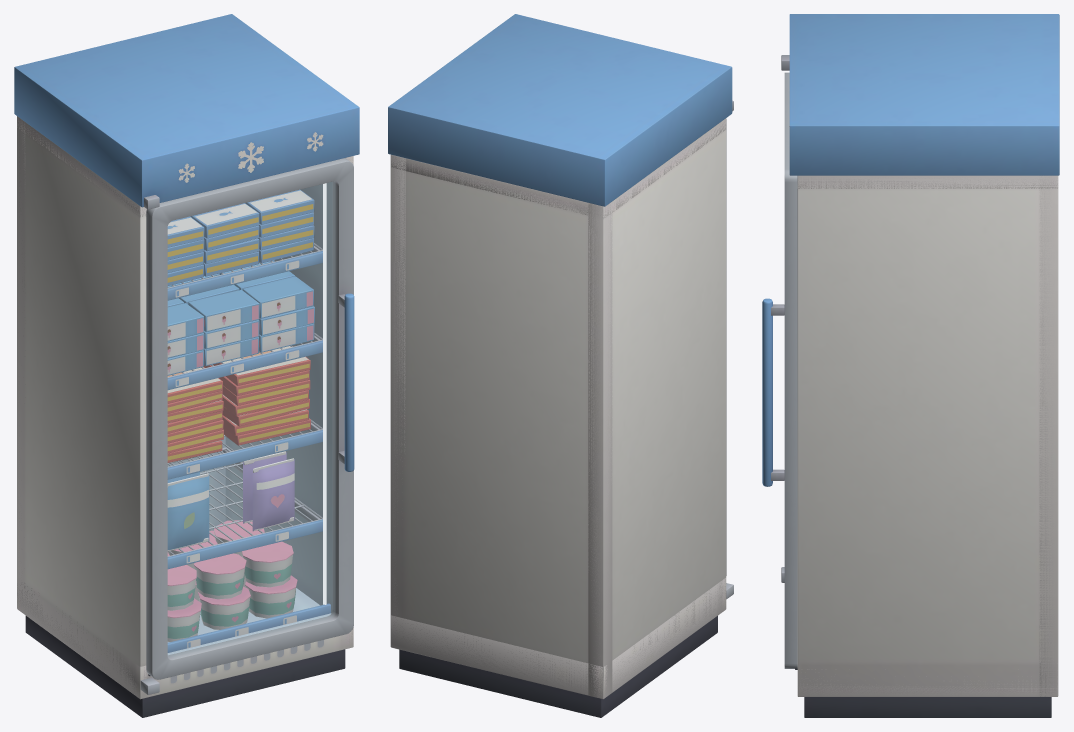
The model's file is g3-upright-freezer.glb.
3 views of the same model, side by side, from view 1: azimuth 30°, elevation 25°; view 2: azimuth 150°, elevation 25°; view 3: azimuth 270°, elevation 25° (orthographic). The views are drawn at different scales.
Visible parts, largest first — view 1: upright-freezer_body, upright-freezer_door_glass, upright-freezer_door, upright-freezer_led_glow; view 2: upright-freezer_body; view 3: upright-freezer_body, upright-freezer_door.
Part boxes in pixels (x1,y1,x2,y2): upright-freezer_body: (14, 14, 359, 717); upright-freezer_door_glass: (168, 181, 335, 657); upright-freezer_door: (146, 158, 354, 679); upright-freezer_led_glow: (323, 183, 326, 604); upright-freezer_body: (388, 14, 733, 717); upright-freezer_body: (781, 14, 1059, 717); upright-freezer_door: (762, 72, 797, 669).
Bounding box in the file's own units: 0.816 × 2.02 × 0.912.
Materials: 4 (2 with a texture image).
